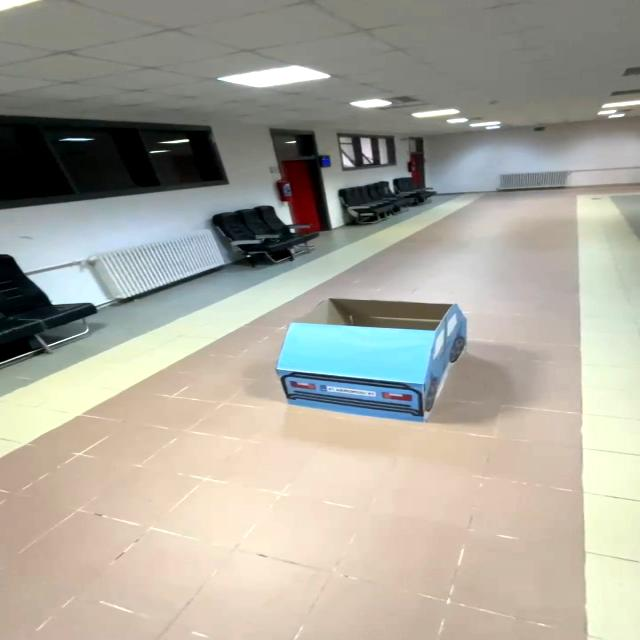blue_car: (244, 276, 501, 439)
